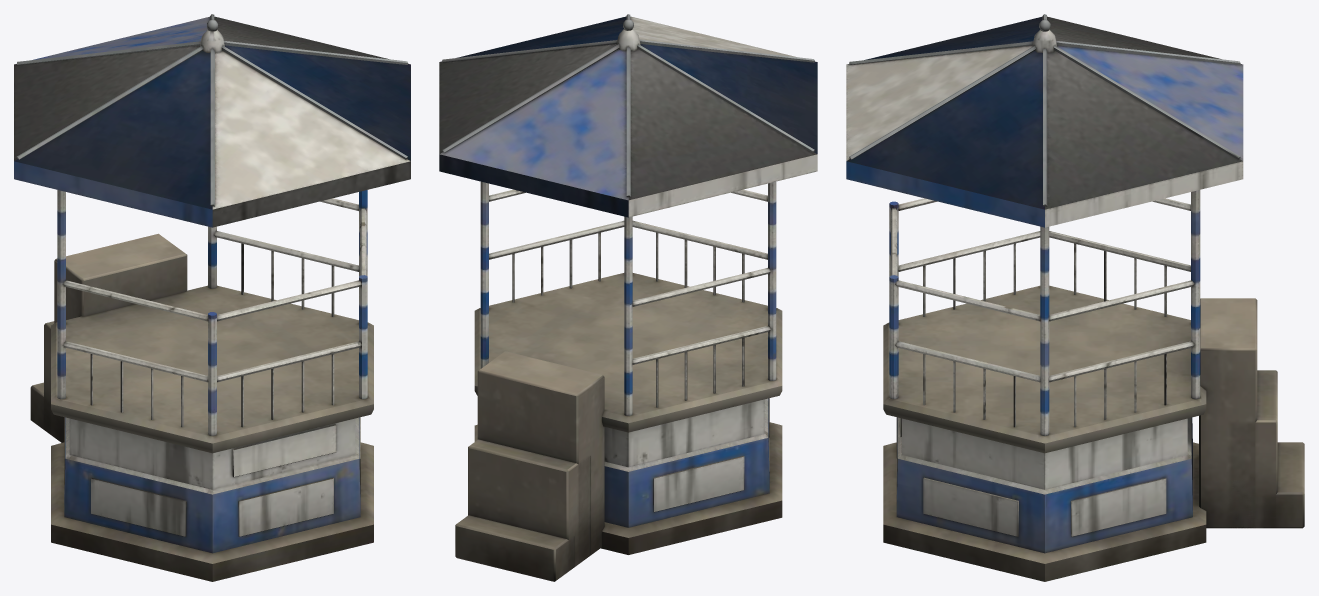
Rendered from police_box.glb.
3 renders of one model, left to right at view 1: azimuth 30°, elevation 25°; view 2: azimuth 150°, elevation 25°; view 3: azimuth 270°, elevation 25°, orthographic. The views are drawn at different scales.
Visible parts, largest first — view 1: body; view 2: body; view 3: body.
Part boxes in pixels (x1,y1,x2,y2): body: (14, 14, 410, 581); body: (439, 14, 817, 581); body: (846, 14, 1304, 581).
Size of the model in its own units: 3 by 3.49 by 3.
1 material, 1 textured.
